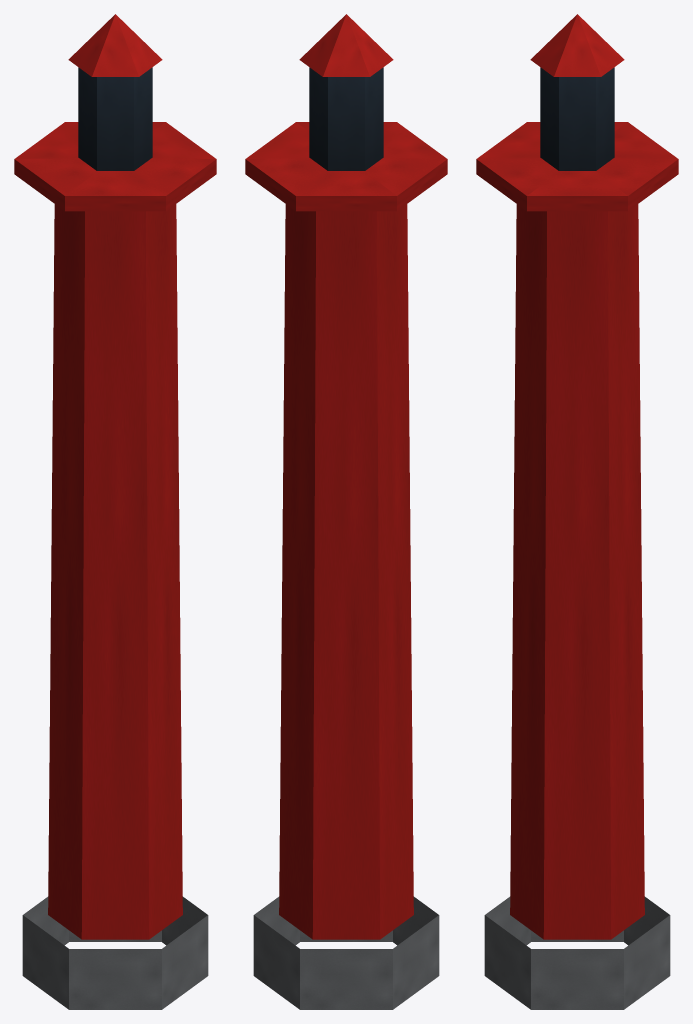
File: SM_Mirabello_Fanale_LOD2.fbx
The picture shows the model from 3 angles, left to right: view 1: azimuth 30°, elevation 25°; view 2: azimuth 150°, elevation 25°; view 3: azimuth 270°, elevation 25°; orthographic projection.
Parts seen in each view (by area): view 1: SM_Mirabello_Fanale_LOD2; view 2: SM_Mirabello_Fanale_LOD2; view 3: SM_Mirabello_Fanale_LOD2.
Part boxes in pixels (x1,y1,x2,y2): SM_Mirabello_Fanale_LOD2: (14, 14, 216, 1009); SM_Mirabello_Fanale_LOD2: (245, 14, 447, 1009); SM_Mirabello_Fanale_LOD2: (476, 14, 678, 1009).
Bounding box in the file's own units: 104 × 120 × 630.
Materials: 1 (1 with a texture image).
